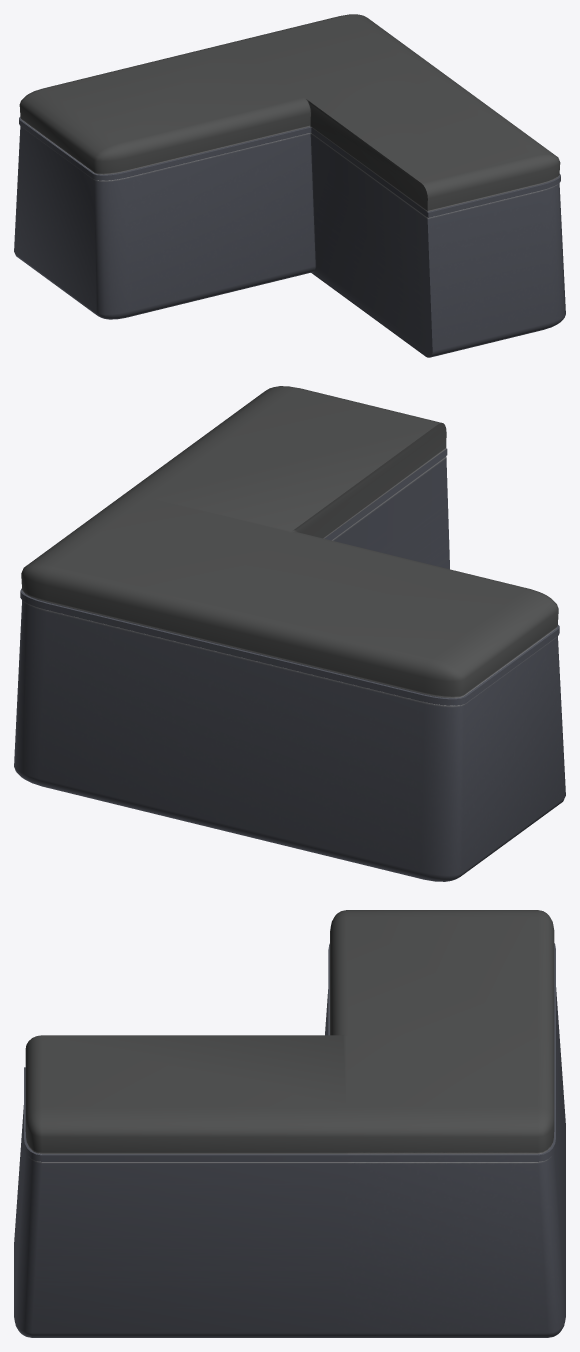
File: Chair4.fbx
3 renders of one model, top to bottom at view 1: azimuth 30°, elevation 25°; view 2: azimuth 150°, elevation 25°; view 3: azimuth 270°, elevation 25°, orthographic. The views are drawn at different scales.
Parts seen in each view (by area): view 1: Chair4; view 2: Chair4; view 3: Chair4.
Boxes of the visible parts, bbox=[...] form: Chair4: bbox=[14, 14, 565, 357]; Chair4: bbox=[14, 386, 565, 881]; Chair4: bbox=[14, 910, 565, 1337].
Bounding box in the file's own units: 462 × 214 × 481.
